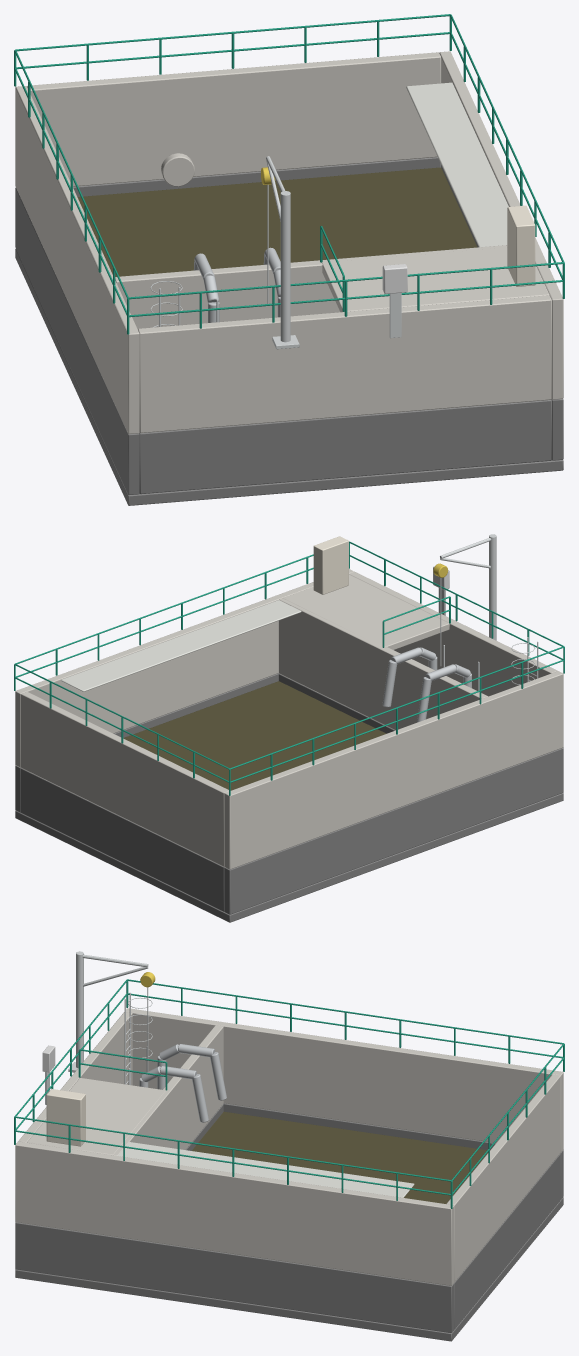
Rendered from Eau_sale_lavage.glb.
3 views of the same model, one above another, from view 1: azimuth 30°, elevation 25°; view 2: azimuth 150°, elevation 25°; view 3: azimuth 270°, elevation 25° (orthographic). The views are drawn at different scales.
Visible parts, largest first — view 1: ES_bet, ES_sale, ES_eau, ES_vert, ES_grat, ES_galva, ES_armoire, ES_tuy, ES_coffret; view 2: ES_bet, ES_sale, ES_eau, ES_vert, ES_grat, ES_galva, ES_armoire, ES_tuy; view 3: ES_bet, ES_sale, ES_eau, ES_vert, ES_grat, ES_galva, ES_tuy, ES_armoire.
Part boxes in pixels (x1,y1,x2,y2): ES_bet: (15, 51, 563, 434); ES_sale: (15, 157, 563, 505); ES_eau: (77, 167, 477, 276); ES_vert: (14, 14, 564, 334); ES_grat: (406, 82, 508, 247); ES_galva: (150, 156, 401, 349); ES_armoire: (507, 205, 535, 286); ES_tuy: (193, 247, 280, 322); ES_coffret: (382, 264, 407, 293); ES_bet: (15, 569, 563, 869); ES_sale: (15, 673, 563, 922); ES_eau: (123, 681, 386, 790); ES_vert: (14, 541, 564, 795); ES_grat: (61, 600, 301, 691); ES_galva: (438, 534, 538, 690); ES_armoire: (313, 536, 348, 594); ES_tuy: (382, 647, 471, 722); ES_bet: (15, 1008, 563, 1285); ES_sale: (15, 1103, 563, 1341); ES_eau: (192, 1111, 488, 1203); ES_vert: (14, 979, 564, 1208); ES_grat: (118, 1142, 414, 1197); ES_galva: (45, 951, 152, 1104); ES_tuy: (139, 1044, 226, 1122); ES_armoire: (46, 1089, 85, 1146).
Size of the model in its own units: 15.59 by 8.5 by 18.
11 materials, 11 textured.
